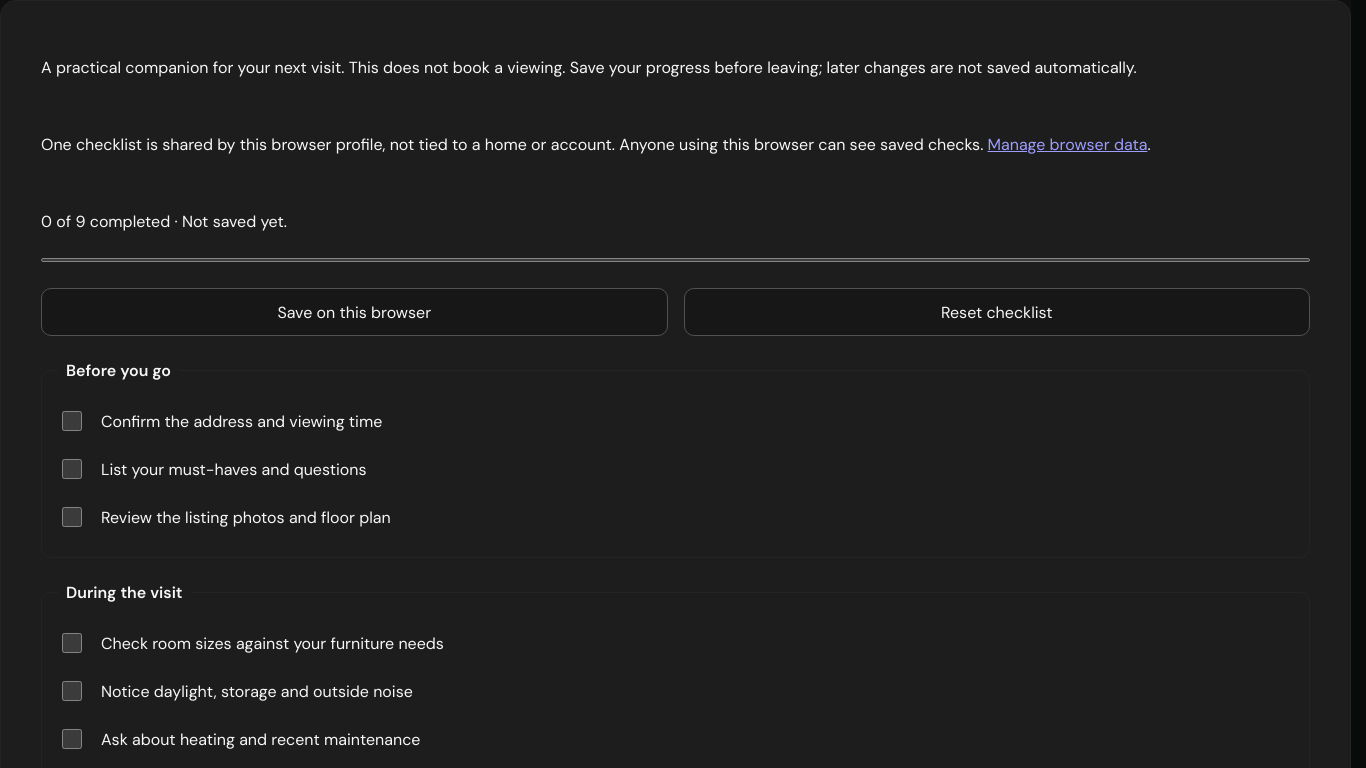
Test: tracks viewing preparation with native keyboard-operable checkboxes
Click the checkbox labelled "Confirm the address and viewing time". click: (72, 421)
box: [62,411,82,431]
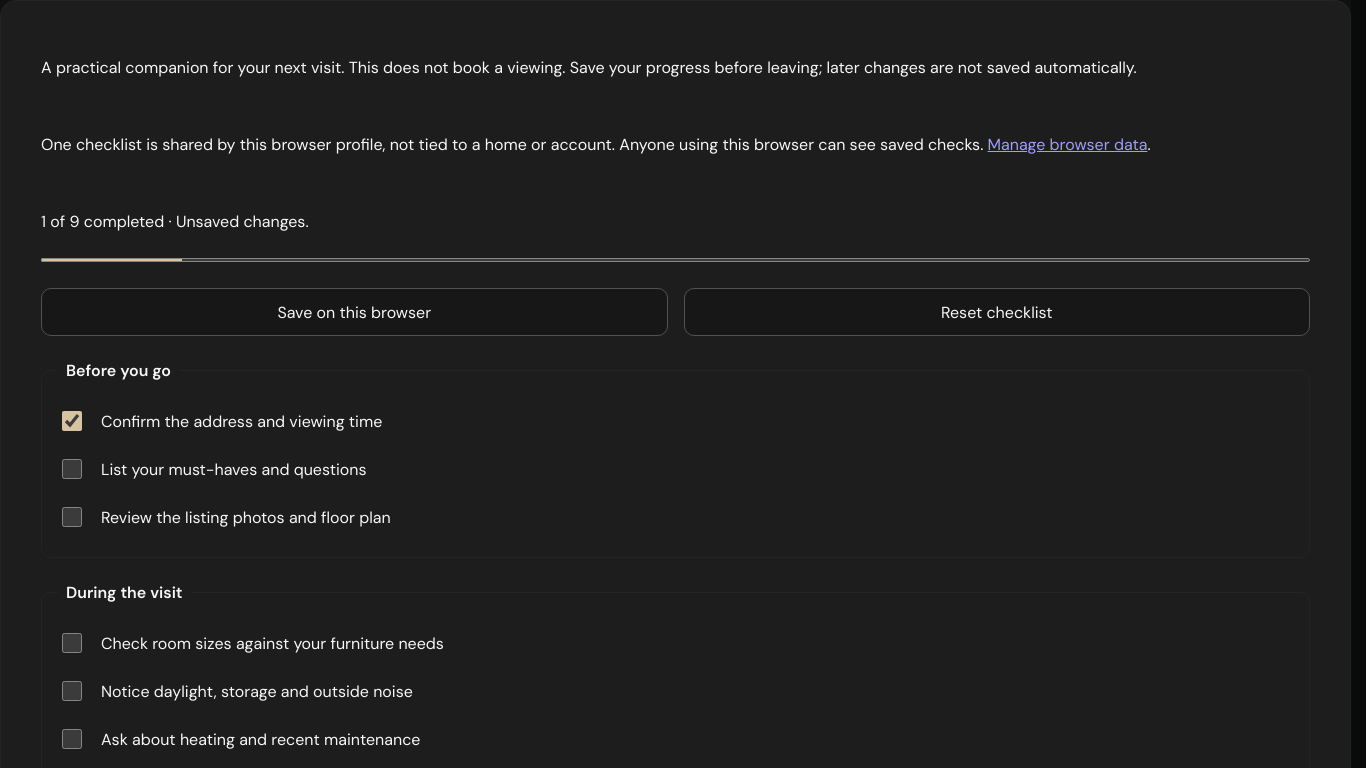
expect the checkbox labelled "Confirm the address and viewing time" is checked: met
expect the message shows "1 of 9 completed": met, box [41,211,309,232]
Click the checkbox labelled "Confirm the address and viewing time". click: (72, 421)
box: [62,411,82,431]
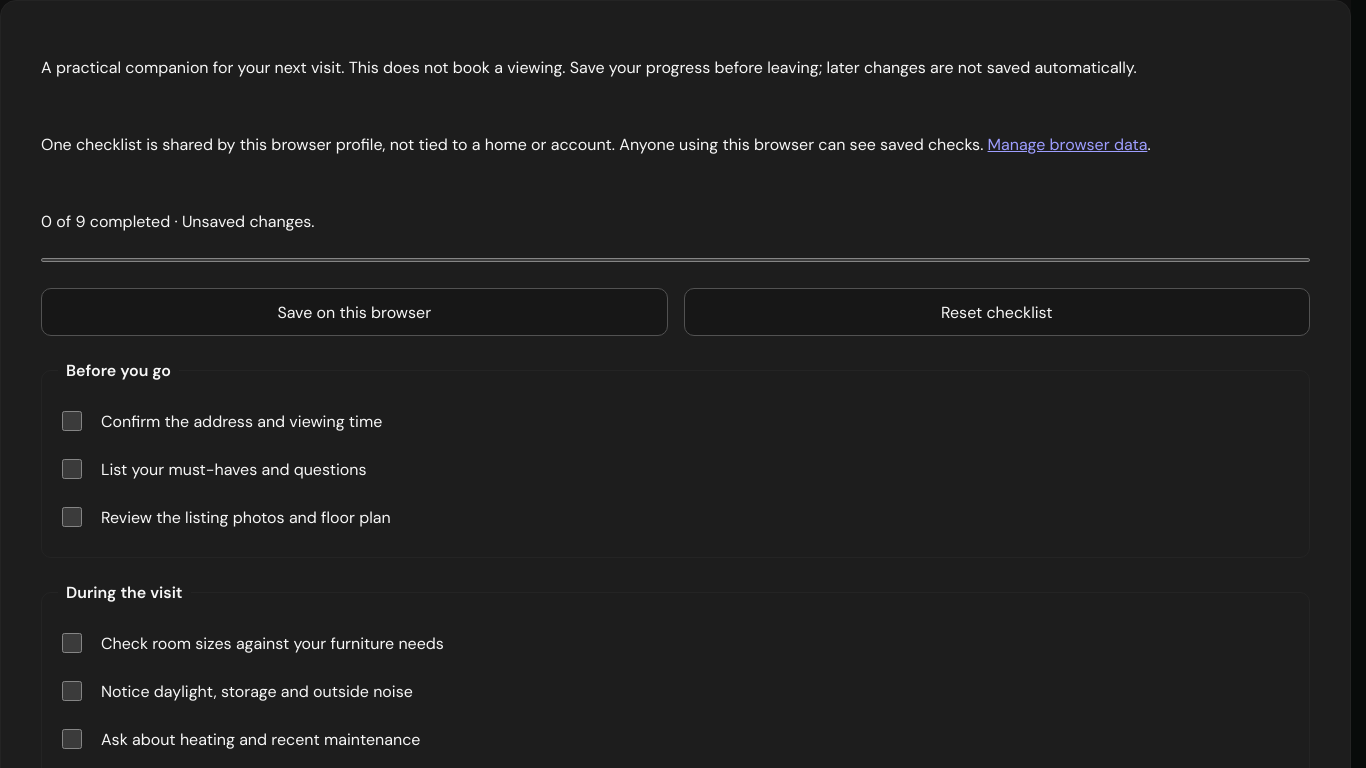
expect the text "does not book a viewing" is shown: met, box [41,57,1137,78]
expect the message shows "0 of 9 completed": met, box [41,211,314,232]
